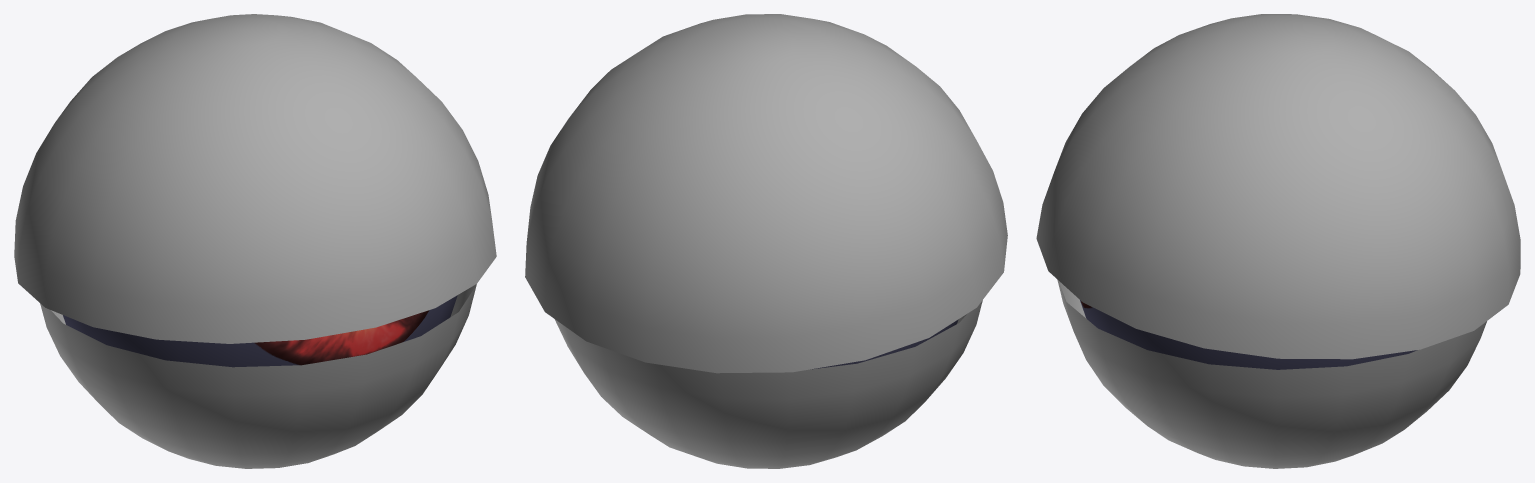
File: theater_puzzle_bossEyeClose.fbx
3 renders of one model, left to right at view 1: azimuth 30°, elevation 25°; view 2: azimuth 150°, elevation 25°; view 3: azimuth 270°, elevation 25°, orthographic.
Parts seen in each view (by area): view 1: pSphere27; view 2: pSphere27; view 3: pSphere27.
Boxes of the visible parts, <box> form: pSphere27: <box>14,14,496,468</box>; pSphere27: <box>525,14,1007,468</box>; pSphere27: <box>1036,14,1520,468</box>.
Bounding box in the file's own units: 258 × 241 × 257.
